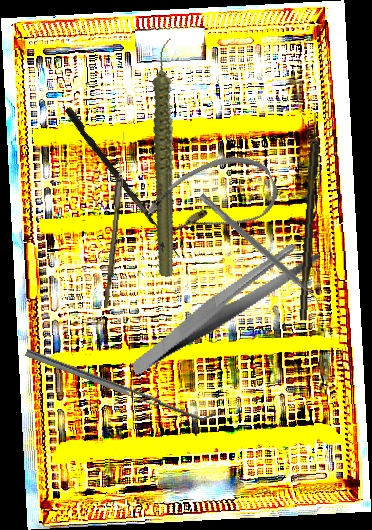Cannula: (139, 141, 286, 260)
Dressing Forceps: (111, 236, 337, 377)
Handpiece: (108, 36, 227, 279)
Hook Surgical: (61, 106, 188, 259), (297, 112, 323, 321)
Spatula Surgical: (24, 341, 217, 428), (194, 192, 325, 310)
Surgical Spoon: (103, 131, 128, 309)
